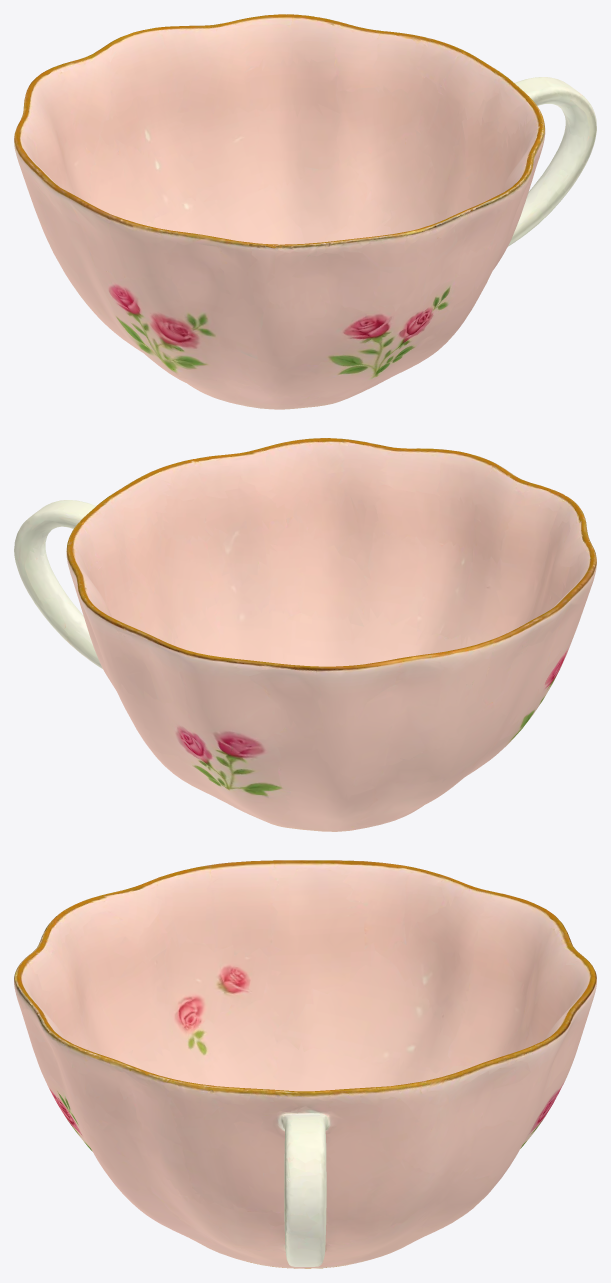
Rendered from kitchen-teacup-01.glb.
3 views of the same model, one above another, from view 1: azimuth 30°, elevation 25°; view 2: azimuth 150°, elevation 25°; view 3: azimuth 270°, elevation 25° (orthographic). The views are drawn at different scales.
Size of the model in its own units: 1.9 by 0.8137 by 1.69.
Materials: 1 (1 with a texture image).
